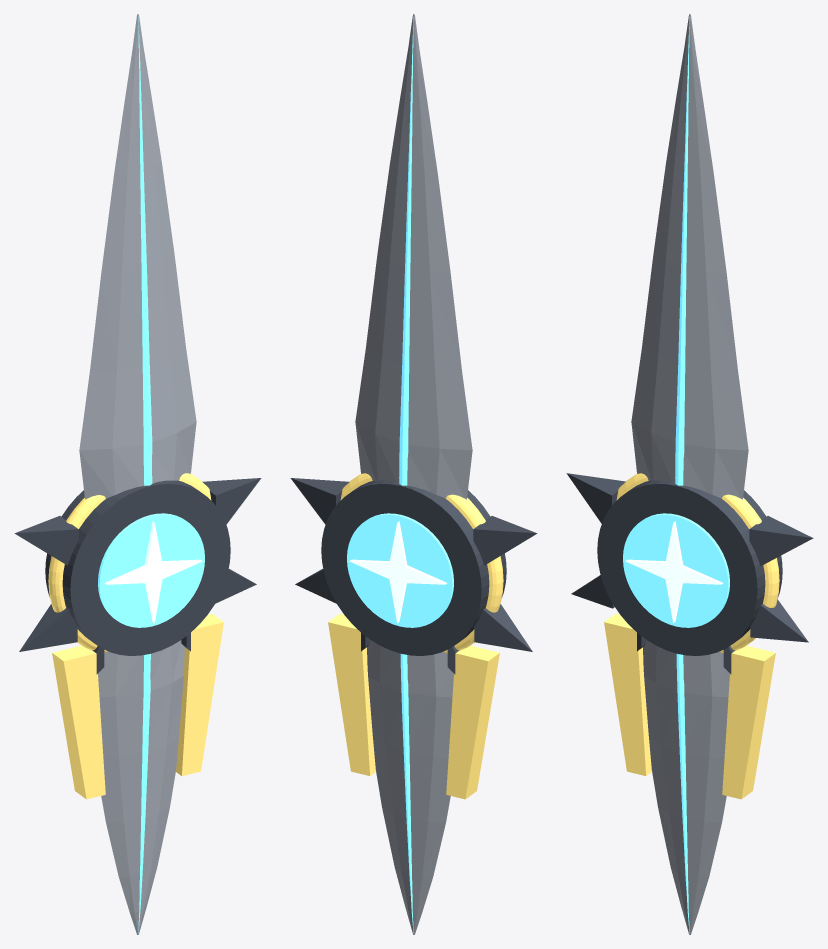
File: Star.glb
The picture shows the model from 3 angles, left to right: view 1: azimuth 30°, elevation 25°; view 2: azimuth 150°, elevation 25°; view 3: azimuth 330°, elevation 25°; orthographic projection.
Visible parts, largest first — view 1: left_blade, right_blade, hub_body, hub_disc_0.48, r_plate_dn, r_plate_up, left_energy, star_front, hub_ring, barb_2, barb_3, right_energy (+2 smaller); view 2: left_blade, right_blade, hub_body, hub_disc_-0.48, r_plate_dn, r_plate_up, left_energy, star_back, hub_ring, barb_2, barb_3, right_energy (+2 smaller); view 3: left_blade, right_blade, hub_body, hub_disc_0.48, r_plate_up, r_plate_dn, left_energy, star_front, hub_ring, barb_0, barb_1, right_energy (+2 smaller).
Part boxes in pixels (<box>): left_blade: <box>79,14,196,499</box>; right_blade: <box>98,640,184,934</box>; hub_body: <box>45,480,230,655</box>; hub_disc_0.48: <box>98,513,204,627</box>; r_plate_dn: <box>52,645,105,799</box>; r_plate_up: <box>176,613,223,775</box>; left_energy: <box>138,16,152,485</box>; star_front: <box>104,521,202,623</box>; hub_ring: <box>48,473,211,652</box>; barb_2: <box>14,516,78,565</box>; barb_3: <box>19,604,77,651</box>; right_energy: <box>138,654,150,933</box>; left_blade: <box>355,14,472,499</box>; right_blade: <box>367,640,453,934</box>; hub_body: <box>321,480,506,655</box>; hub_disc_-0.48: <box>347,513,453,627</box>; r_plate_dn: <box>446,645,499,799</box>; r_plate_up: <box>328,613,375,775</box>; left_energy: <box>399,16,413,485</box>; star_back: <box>349,521,447,623</box>; hub_ring: <box>340,473,503,653</box>; barb_2: <box>473,516,537,565</box>; barb_3: <box>474,604,532,651</box>; right_energy: <box>400,654,413,933</box>; left_blade: <box>631,14,748,499</box>; right_blade: <box>643,640,729,934</box>; hub_body: <box>597,480,782,655</box>; hub_disc_0.48: <box>623,513,729,627</box>; r_plate_up: <box>722,645,775,799</box>; r_plate_dn: <box>604,613,651,775</box>; left_energy: <box>675,16,689,485</box>; star_front: <box>625,521,723,623</box>; hub_ring: <box>616,473,779,653</box>; barb_0: <box>749,516,813,566</box>; barb_1: <box>750,599,808,642</box>; right_energy: <box>676,654,689,933</box>.
Bounding box in the file's own units: 0.108 × 0.384 × 0.0254.
